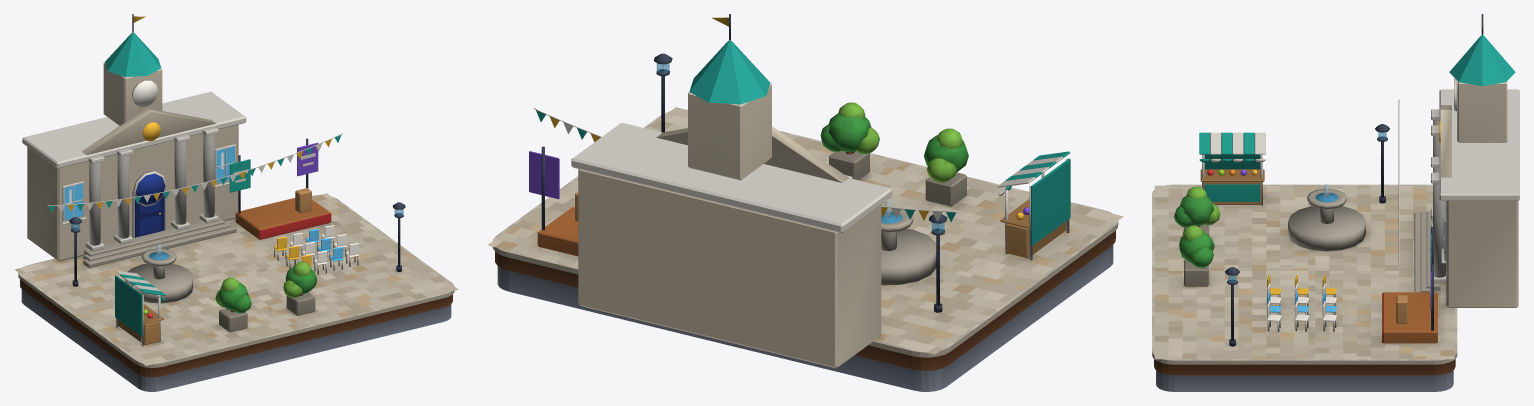
File: square.glb
3 renders of one model, left to right at view 1: azimuth 30°, elevation 25°; view 2: azimuth 150°, elevation 25°; view 3: azimuth 270°, elevation 25°, orthographic. The views are drawn at different scales.
Parts seen in each view (by area): view 1: square_Satin, square_Gloss, square_Matte; view 2: square_Satin, square_Gloss, square_Matte; view 3: square_Satin, square_Gloss, square_Matte.
Boxes of the visible parts, x1,y1,x2,y2 form: square_Satin: (14,14,457,391); square_Gloss: (64,32,405,318); square_Matte: (18,195,454,367); square_Satin: (487,14,1123,391); square_Gloss: (541,40,1029,305); square_Matte: (492,109,1118,357); square_Satin: (1154,14,1519,391); square_Gloss: (1207,34,1515,340); square_Matte: (1152,184,1457,364).
Bounding box in the file's own units: 15 × 11.02 × 13.25.
